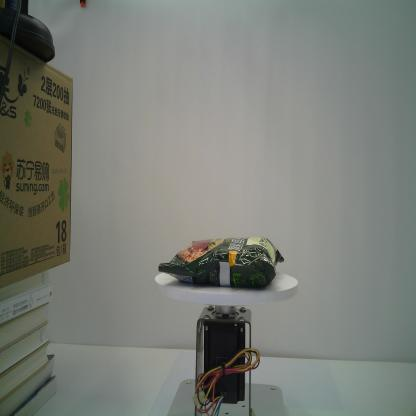Instant Noodles: (158, 235, 286, 291)
